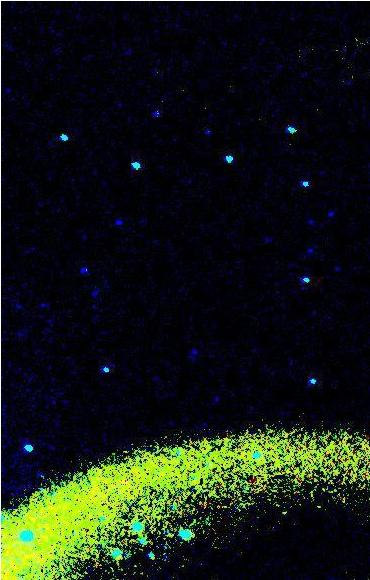star: (190, 120, 220, 150)
